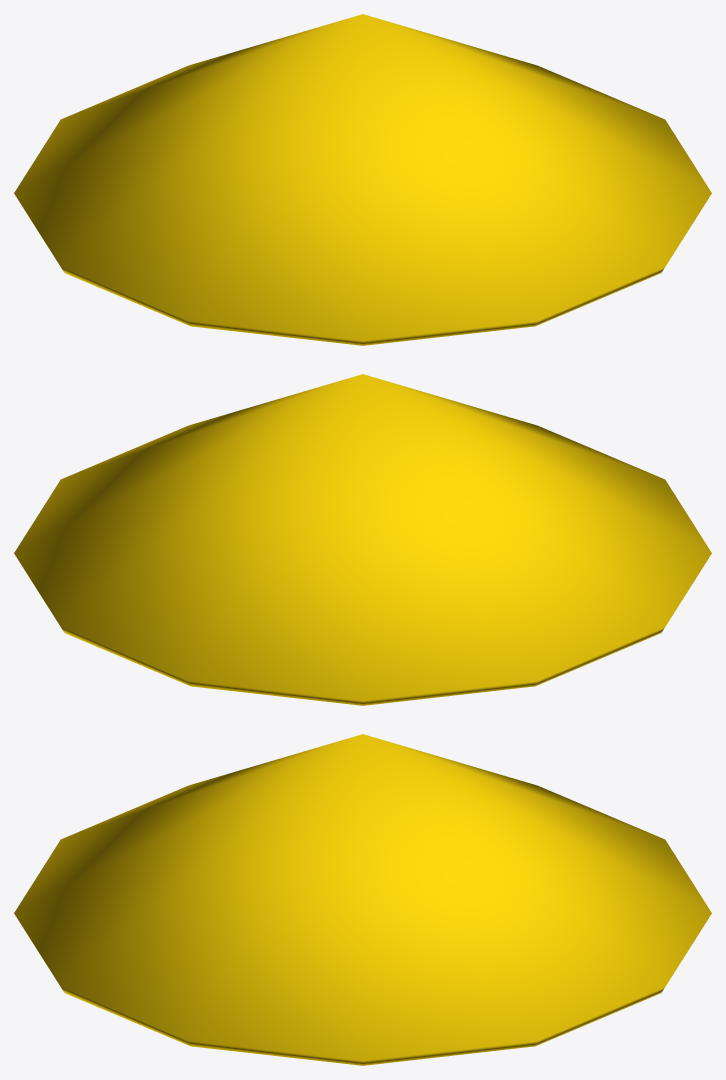
The model's file is japanhat.fbx.
3 renders of one model, top to bottom at view 1: azimuth 30°, elevation 25°; view 2: azimuth 150°, elevation 25°; view 3: azimuth 270°, elevation 25°, orthographic.
Parts seen in each view (by area): view 1: japanhat; view 2: japanhat; view 3: japanhat.
Part boxes in pixels (bbox=[...]): japanhat: bbox=[14, 14, 711, 345]; japanhat: bbox=[14, 374, 711, 705]; japanhat: bbox=[14, 734, 711, 1065].
Bounding box in the file's own units: 394 × 116 × 394.
